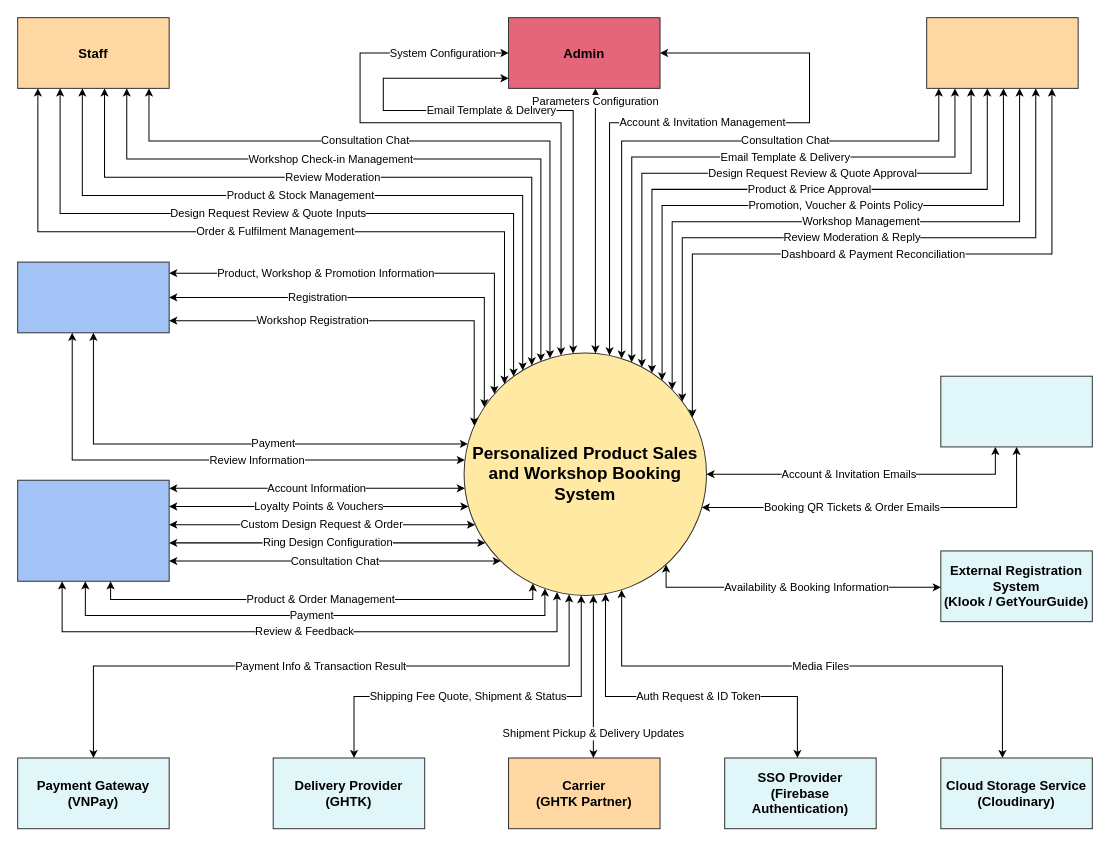
Image size: 1110x846. Some labels were removed from this diagram. The shapes that lost their labels are listed below. From the top down, each one's centre as x and y in pixels, then its label:
(x=1002, y=52): Manager
(x=93, y=297): Guest
(x=1016, y=411): Mail Gateway (SMTP)
(x=93, y=530): Member
